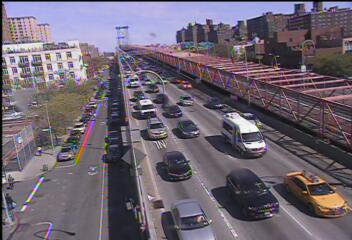neg: (65, 76, 86, 105), (28, 125, 48, 152), (215, 101, 234, 127), (256, 170, 275, 196), (26, 66, 45, 91), (129, 146, 147, 171), (238, 49, 256, 73), (163, 45, 181, 68), (297, 120, 314, 143), (115, 90, 131, 112), (172, 107, 188, 128), (173, 170, 189, 191), (293, 48, 309, 68), (220, 179, 235, 200), (63, 117, 78, 137), (293, 161, 308, 181), (145, 93, 160, 112), (75, 140, 90, 159), (251, 98, 265, 117), (83, 191, 97, 210), (126, 40, 140, 58), (88, 45, 102, 63), (30, 36, 44, 54), (299, 81, 312, 99), (130, 198, 143, 216), (202, 55, 215, 72), (209, 16, 222, 33), (277, 21, 289, 37), (54, 166, 65, 181)
pos: (3, 190, 20, 212), (4, 169, 18, 188)
